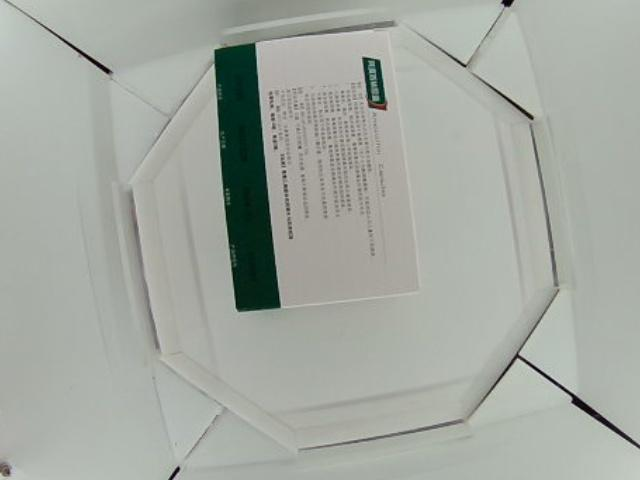Medicine: (213, 34, 424, 314)
